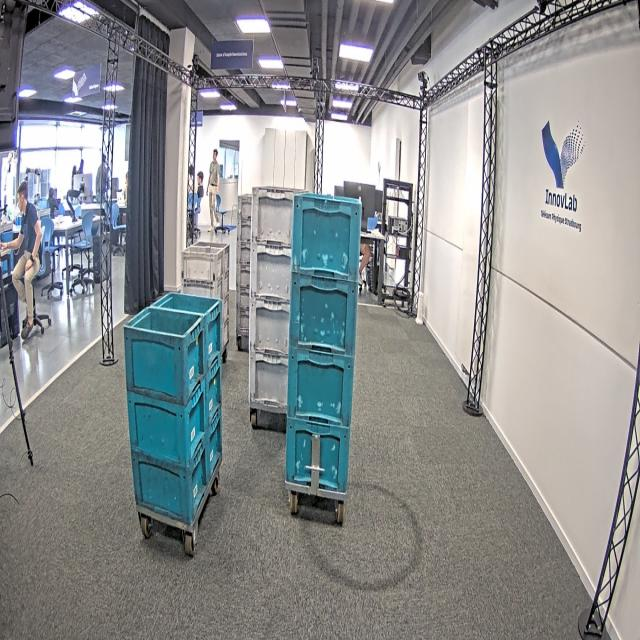Box3G: (236, 193, 253, 220), (237, 305, 250, 335), (236, 260, 250, 287), (236, 240, 251, 262), (238, 220, 252, 242), (236, 285, 250, 306)
Box4G: (252, 186, 294, 248), (250, 294, 292, 356), (248, 349, 290, 411), (251, 246, 292, 303)
Box8G: (181, 246, 223, 281), (190, 242, 229, 274), (181, 276, 223, 305), (222, 293, 229, 322), (223, 316, 229, 348), (223, 268, 229, 297)
BoxB4: (293, 186, 362, 284), (286, 271, 358, 360), (287, 345, 355, 429), (285, 415, 352, 494)
BoxB8: (123, 293, 204, 408), (126, 391, 204, 469), (130, 451, 208, 524), (195, 294, 223, 375), (202, 362, 222, 431), (205, 410, 222, 476), (204, 404, 221, 434)
